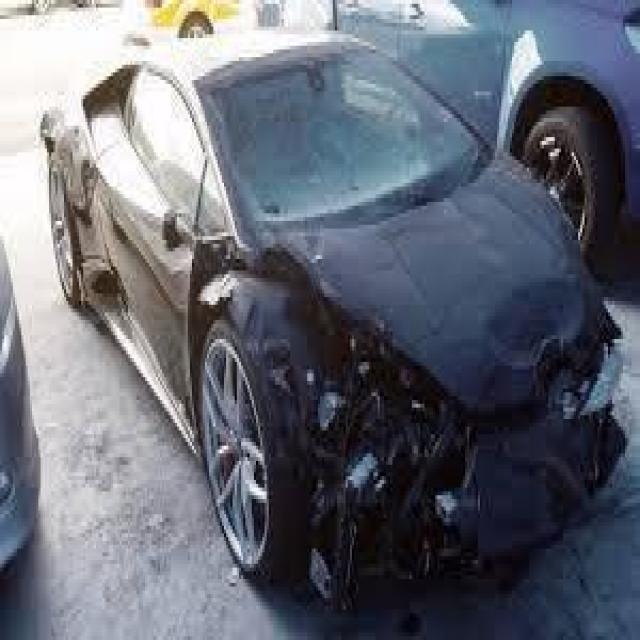damaged: (194, 232, 489, 598), (529, 320, 625, 442)
